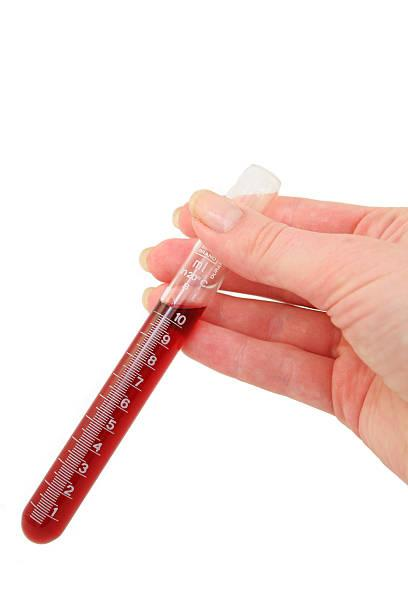Test tube: (24, 162, 288, 595)
